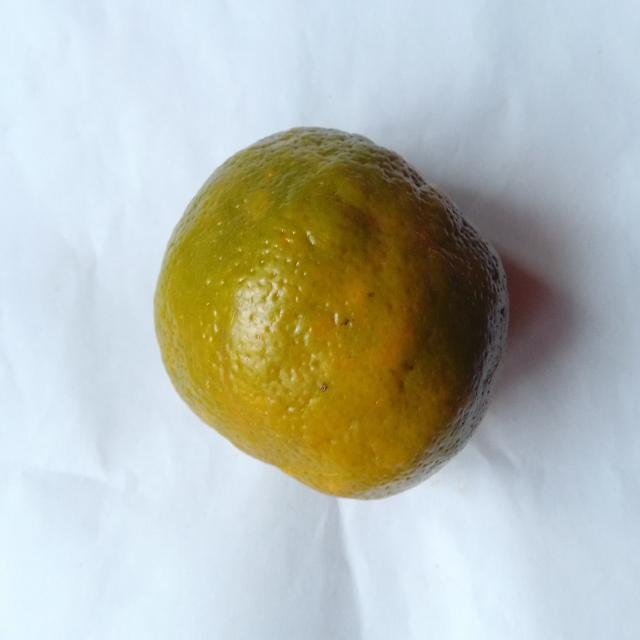orange: (155, 129, 507, 497)
